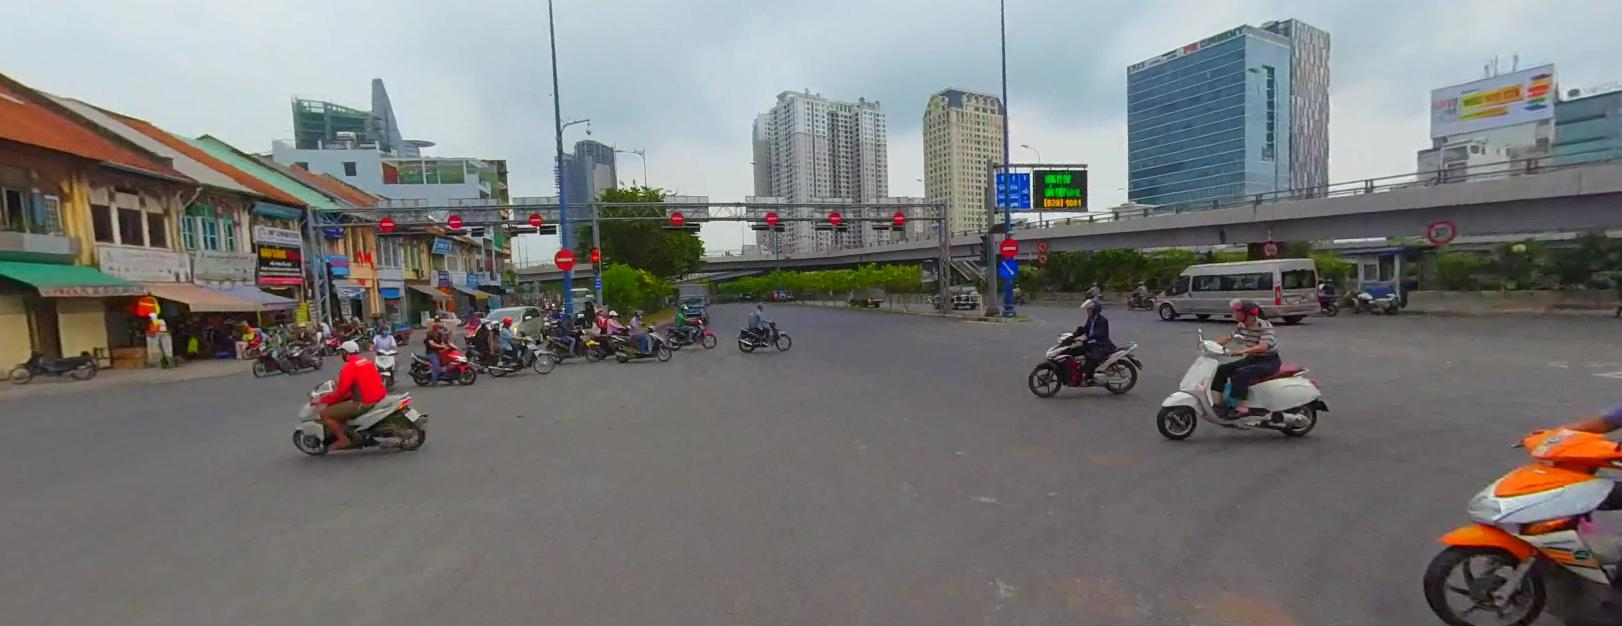Cam con lai: (1262, 238, 1278, 254), (1037, 240, 1047, 250), (1038, 251, 1047, 261)
Cam nguoc chieu: (554, 246, 576, 269), (998, 236, 1017, 256), (379, 215, 395, 230), (447, 214, 462, 227), (670, 210, 683, 223), (765, 210, 778, 223), (829, 210, 841, 223), (528, 212, 542, 223), (892, 210, 904, 221)
Gioi han toc do: (1426, 218, 1456, 242)
Hieu lenh: (996, 256, 1020, 276)
